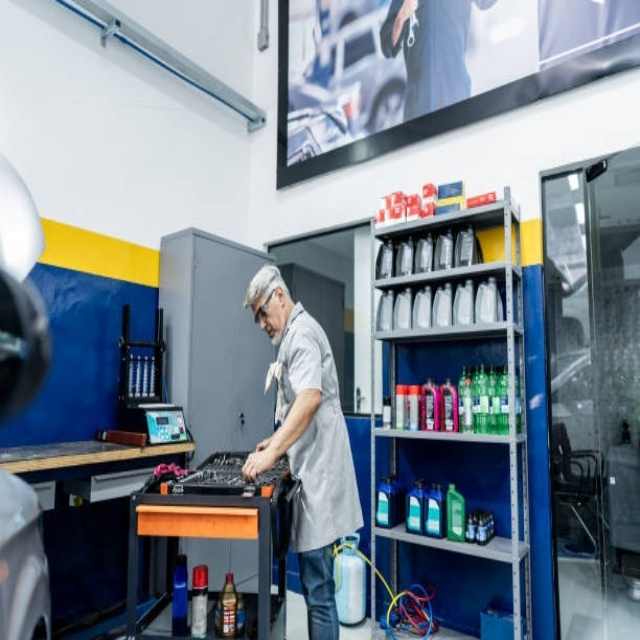Gafas: (254, 288, 277, 325)
Sin_guantes: (239, 441, 279, 480)
Sin_mascara: (259, 325, 277, 345)
